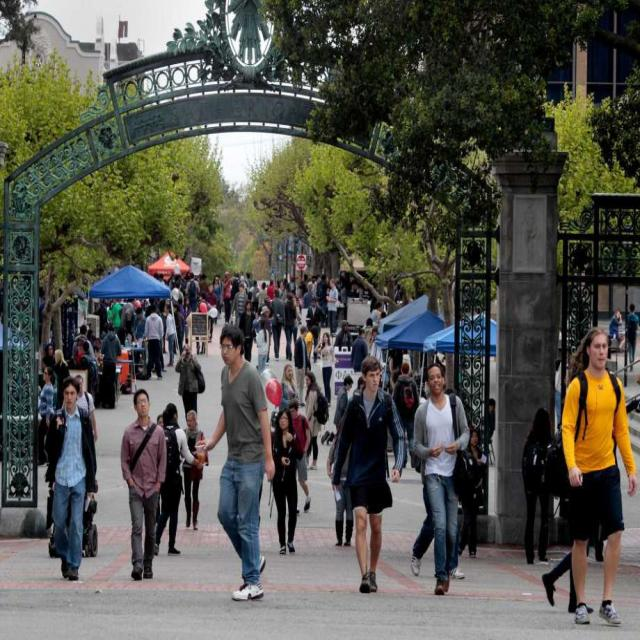body: (556, 323, 639, 628), (328, 352, 409, 596), (410, 364, 480, 581), (42, 375, 98, 583), (409, 386, 467, 582), (118, 385, 169, 584), (152, 401, 202, 559), (230, 266, 349, 325), (518, 402, 560, 566), (272, 406, 305, 555), (176, 406, 210, 533), (457, 427, 488, 559), (326, 416, 356, 548), (540, 547, 595, 617), (392, 361, 420, 468), (302, 369, 331, 472), (288, 397, 313, 512), (320, 374, 354, 447), (174, 342, 202, 422), (99, 321, 123, 411), (36, 365, 57, 467), (142, 303, 165, 381), (391, 344, 445, 377), (74, 373, 99, 443), (313, 331, 336, 407), (304, 295, 325, 366), (268, 288, 286, 363), (370, 297, 390, 364), (294, 324, 310, 407), (197, 272, 221, 323), (77, 339, 98, 395), (278, 362, 301, 413), (53, 348, 70, 412), (283, 292, 298, 362), (131, 292, 170, 318), (71, 324, 95, 366), (204, 282, 220, 345), (626, 302, 640, 373), (163, 302, 178, 368), (283, 296, 298, 362), (254, 317, 270, 376), (256, 305, 272, 363), (230, 280, 249, 328), (350, 326, 369, 374), (150, 270, 189, 292), (92, 294, 114, 332), (86, 328, 104, 374), (41, 474, 56, 529), (120, 296, 136, 347), (325, 278, 339, 336), (382, 348, 398, 397), (172, 302, 186, 357), (304, 324, 320, 372), (184, 272, 202, 314), (608, 308, 625, 352), (333, 319, 354, 353), (152, 336, 170, 374), (108, 296, 123, 334), (222, 269, 232, 326), (132, 306, 147, 343), (41, 342, 56, 374), (33, 380, 43, 425), (212, 274, 223, 312), (302, 280, 316, 309), (177, 295, 186, 340), (170, 280, 185, 307), (351, 374, 369, 396), (195, 290, 212, 312), (488, 398, 496, 442), (361, 316, 374, 330), (633, 373, 640, 392), (156, 413, 164, 429)
